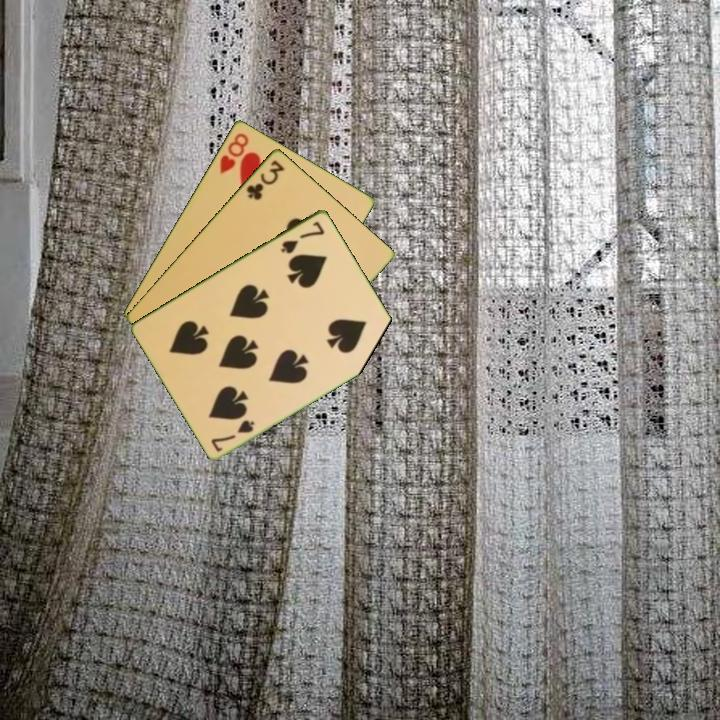3c: (243, 156, 287, 203)
7s: (277, 217, 327, 256), (207, 416, 258, 454)
8h: (216, 129, 252, 176)
